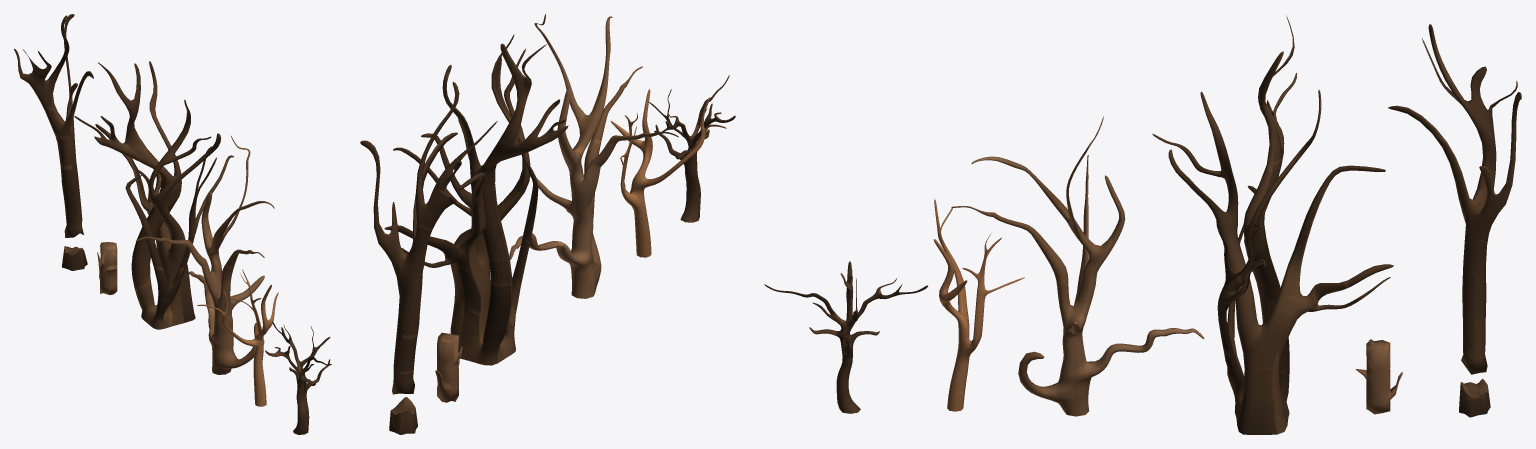
The picture shows the model from 3 angles, left to right: view 1: azimuth 30°, elevation 25°; view 2: azimuth 150°, elevation 25°; view 3: azimuth 270°, elevation 25°; orthographic projection. The views are drawn at different scales.
Visible parts, largest first — view 1: Joined.003, Joined.001, Joined.005, Joined.002, Joined, Log_LOD0, Joined.004; view 2: Joined.003, Joined.001, Joined.005, Joined.002, Joined, Log_LOD0, Joined.004; view 3: Joined.003, Joined.001, Joined.005, Joined.002, Joined, Log_LOD0, Joined.004.
Boxes of the visible parts, x1,y1,x2,y2 form: Joined.003: (74,61,233,329); Joined.001: (137,136,274,374); Joined.005: (14,14,93,237); Joined.002: (197,269,278,406); Joined: (265,321,331,434); Log_LOD0: (97,242,117,294); Joined.004: (62,246,87,270); Joined.003: (384,34,568,365); Joined.001: (509,14,678,298); Joined.005: (360,81,497,394); Joined.002: (610,89,726,257); Joined: (649,75,735,222); Log_LOD0: (435,332,462,402); Joined.004: (389,397,417,434); Joined.003: (1152,15,1393,434); Joined.001: (951,116,1204,416); Joined.005: (1388,24,1521,374); Joined.002: (933,199,1024,411); Joined: (764,261,927,413); Log_LOD0: (1355,339,1402,414); Joined.004: (1459,378,1490,417).
Size of the model in its own units: 2143 by 3421 by 6319.
1 material, 1 textured.
